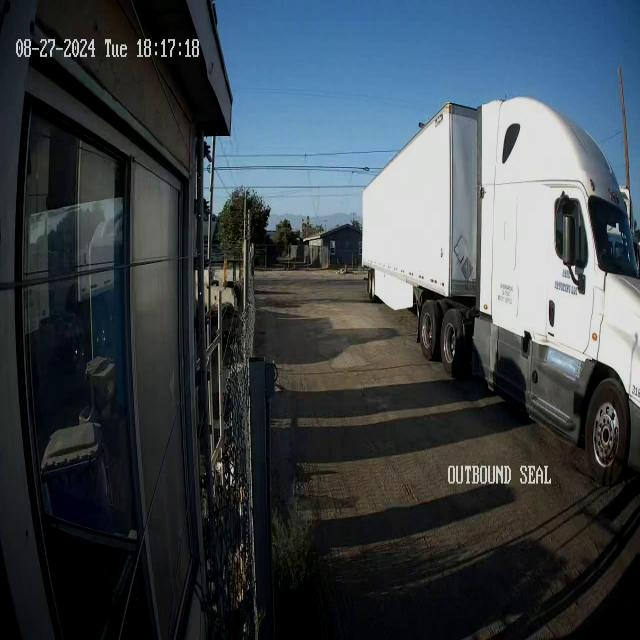CONTAINER: (362, 101, 478, 302)
